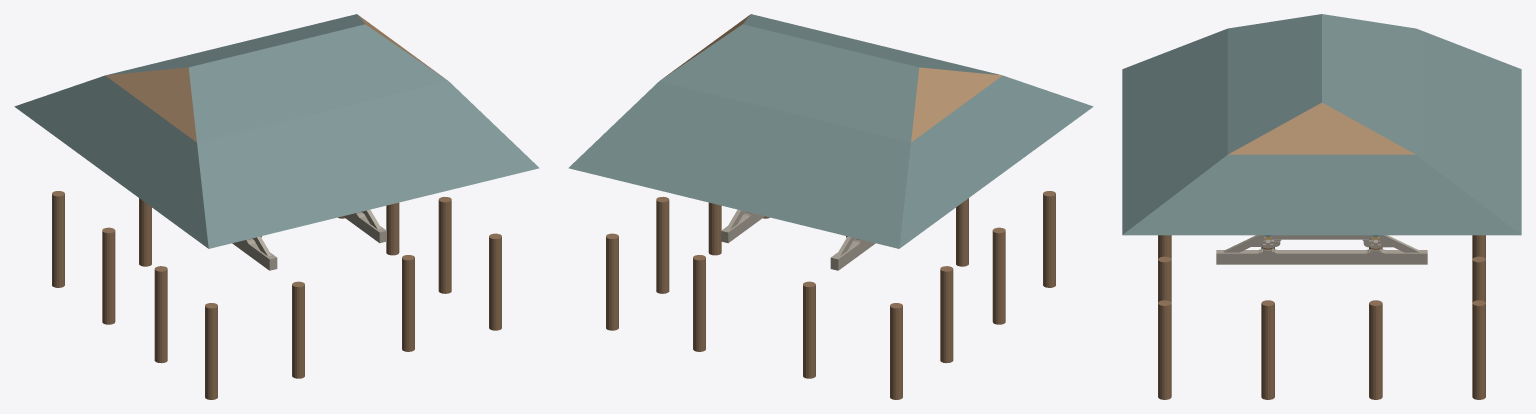
Rendered from WANFO_PROOF_V001.glb.
The picture shows the model from 3 angles, left to right: view 1: azimuth 30°, elevation 25°; view 2: azimuth 150°, elevation 25°; view 3: azimuth 270°, elevation 25°; orthographic projection. The views are drawn at different scales.
Parts seen in each view (by area): view 1: TMP_ROOF_LOWER_N, TMP_ROOF_UPPER_N, TMP_XIESHAN_HIP_W, TMP_XIESHAN_GABLE_W, TMP_ROOF_UPPER_S, TMP_COLUMN_0_2, TMP_COLUMN_0_1, TMP_COLUMN_3_1, TMP_COLUMN_1_0, TMP_COLUMN_3_0, TMP_COLUMN_0_0, TMP_COLUMN_0_3 (+5 smaller); view 2: TMP_ROOF_LOWER_S, TMP_ROOF_UPPER_S, TMP_XIESHAN_HIP_W, TMP_XIESHAN_GABLE_W, TMP_ROOF_UPPER_N, TMP_COLUMN_0_1, TMP_COLUMN_0_2, TMP_COLUMN_3_2, TMP_COLUMN_1_3, TMP_COLUMN_3_3, TMP_COLUMN_0_3, TMP_COLUMN_0_0 (+5 smaller); view 3: TMP_XIESHAN_HIP_E, TMP_ROOF_LOWER_N, TMP_ROOF_LOWER_S, TMP_ROOF_UPPER_N, TMP_ROOF_UPPER_S, TMP_XIESHAN_GABLE_E, east:FOUR_BEAM, TMP_COLUMN_3_0, TMP_COLUMN_3_1, TMP_COLUMN_3_2, TMP_COLUMN_3_3, TMP_COLUMN_2_0 (+2 smaller).
Boxes of the visible parts, x1,y1,x2,y2 form: TMP_ROOF_LOWER_N: (197,81,539,248); TMP_ROOF_UPPER_N: (188,24,448,142); TMP_XIESHAN_HIP_W: (14,75,208,248); TMP_XIESHAN_GABLE_W: (105,67,196,142); TMP_ROOF_UPPER_S: (106,14,364,75); TMP_COLUMN_0_2: (102,227,115,324); TMP_COLUMN_0_1: (154,266,167,363); TMP_COLUMN_3_1: (438,196,451,293); TMP_COLUMN_1_0: (292,281,304,378); TMP_COLUMN_3_0: (489,233,501,330); TMP_COLUMN_0_0: (205,303,217,399); TMP_COLUMN_0_3: (52,191,64,287); TMP_ROOF_LOWER_S: (568,81,910,248); TMP_ROOF_UPPER_S: (659,24,919,142); TMP_XIESHAN_HIP_W: (899,75,1093,248); TMP_XIESHAN_GABLE_W: (911,67,1002,142); TMP_ROOF_UPPER_N: (743,14,1001,75); TMP_COLUMN_0_1: (992,227,1005,324); TMP_COLUMN_0_2: (940,266,953,363); TMP_COLUMN_3_2: (656,196,669,293); TMP_COLUMN_1_3: (803,281,815,378); TMP_COLUMN_3_3: (606,233,618,330); TMP_COLUMN_0_3: (890,303,902,399); TMP_COLUMN_0_0: (1043,191,1055,287); TMP_XIESHAN_HIP_E: (1122,154,1521,235); TMP_ROOF_LOWER_N: (1122,28,1227,234); TMP_ROOF_LOWER_S: (1416,28,1521,234); TMP_ROOF_UPPER_N: (1227,14,1321,154); TMP_ROOF_UPPER_S: (1322,14,1416,154); TMP_XIESHAN_GABLE_E: (1228,102,1415,154); east:FOUR_BEAM: (1216,250,1427,264); TMP_COLUMN_3_0: (1158,300,1171,399); TMP_COLUMN_3_1: (1261,300,1274,399); TMP_COLUMN_3_2: (1369,300,1382,399); TMP_COLUMN_3_3: (1472,300,1485,399); TMP_COLUMN_2_0: (1158,256,1171,302).
Bounding box in the file's own units: 13375 × 10065 × 13617.
